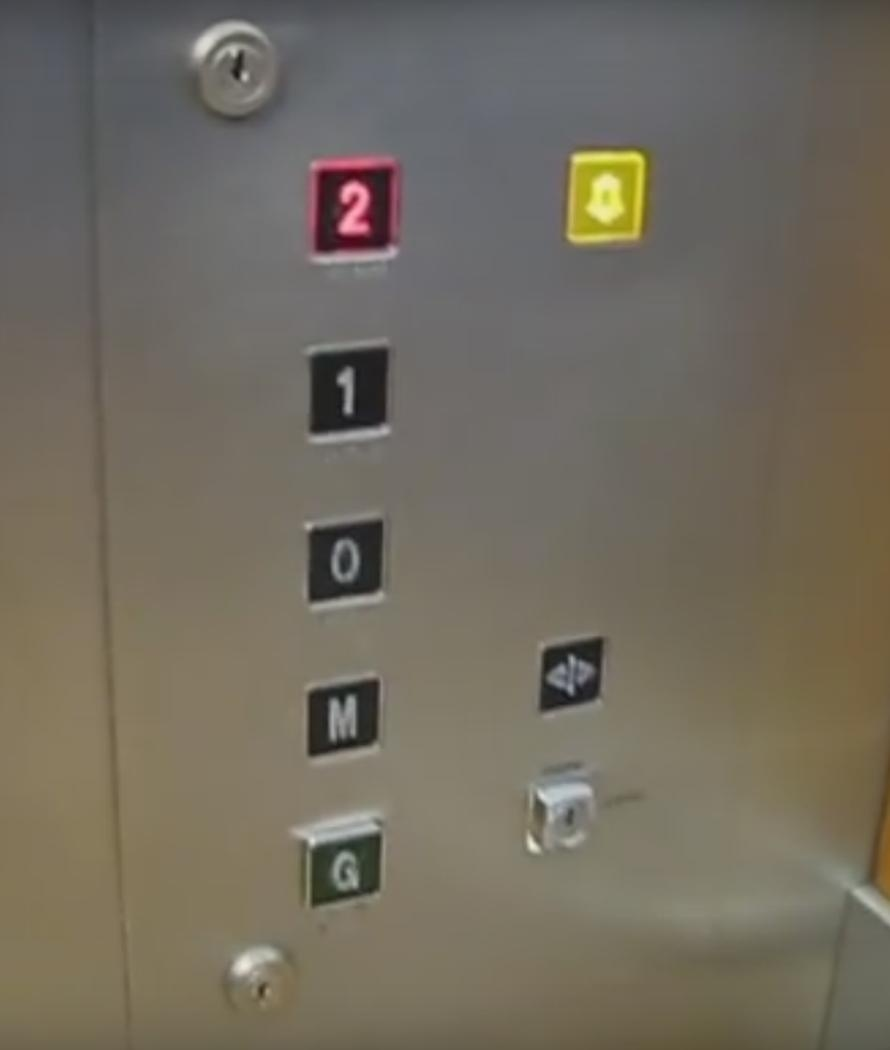0: (294, 503, 391, 620)
1: (295, 335, 400, 452)
2: (300, 152, 410, 273)
G: (288, 809, 392, 919)
M: (295, 663, 391, 774)
alarm: (558, 142, 650, 252)
keyhole: (178, 15, 285, 128), (217, 937, 298, 1029), (521, 771, 602, 863)
open: (532, 627, 609, 725)
